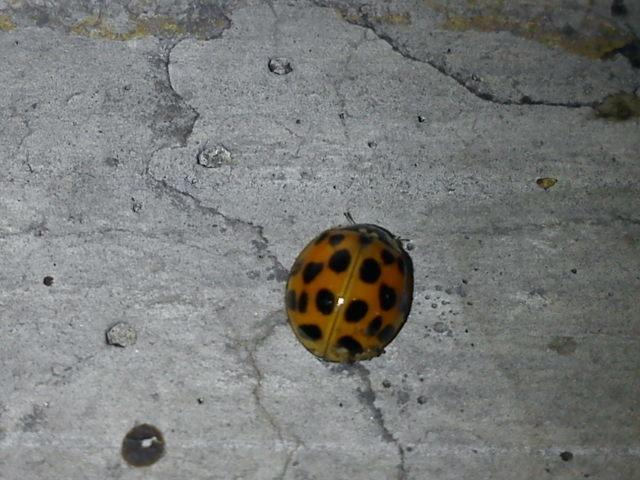ladybug: (285, 210, 416, 366)
